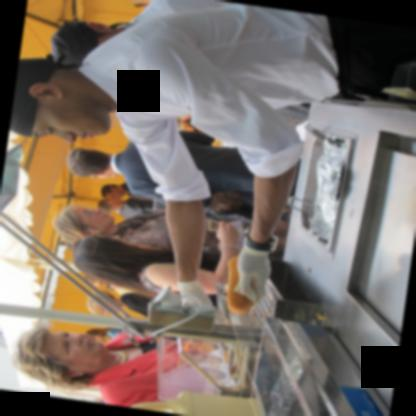handbag: (203, 189, 243, 215)
